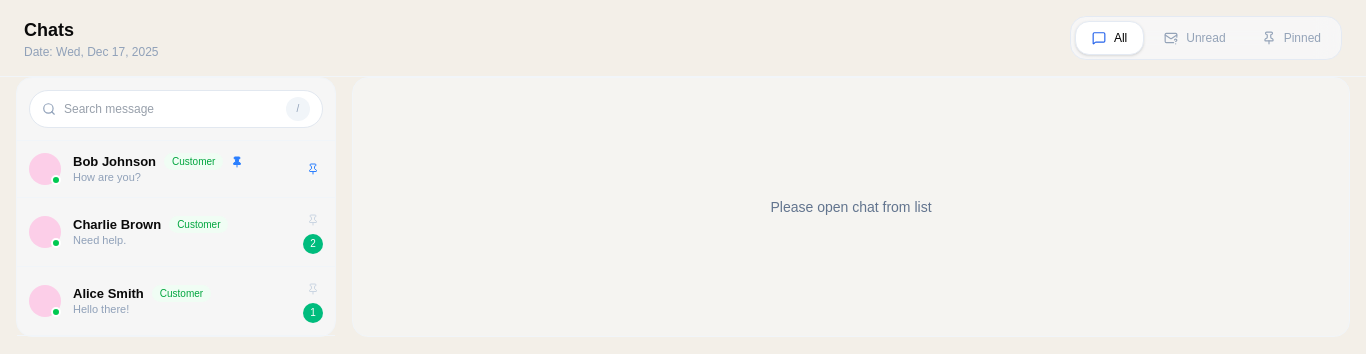
it: ChatsPage › filters chats by search query (name)
Expected: the text "Alice Smith" is shown, [73,285,144,302]
Expected: the text "Bob Johnson" is shown, [73,153,156,170]
Step 1. Type "alice" into the field with placeholder "Search message" → (171, 109), box [64,101,278,117]
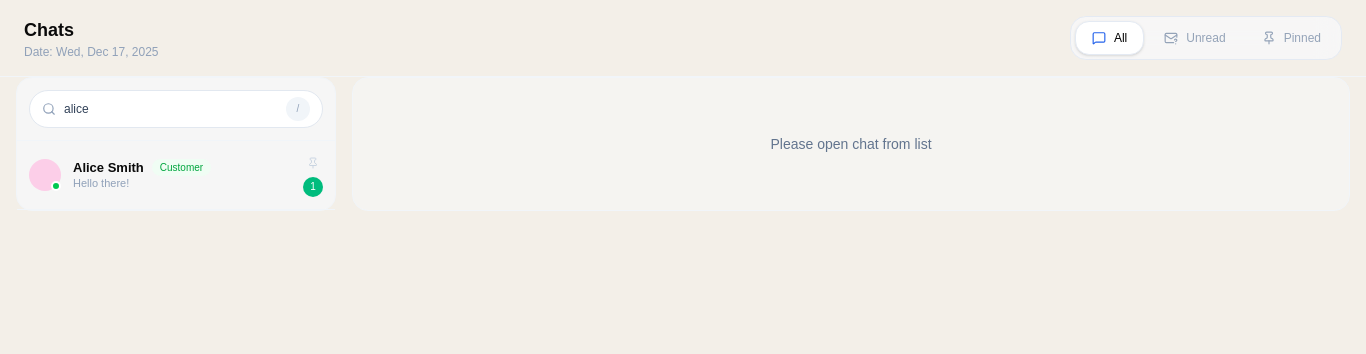
Expected: the text "Alice Smith" is shown, [73,159,144,176]
Expected: the text "Bob Johnson" is gone
Expected: the text "Charlie Brown" is gone
